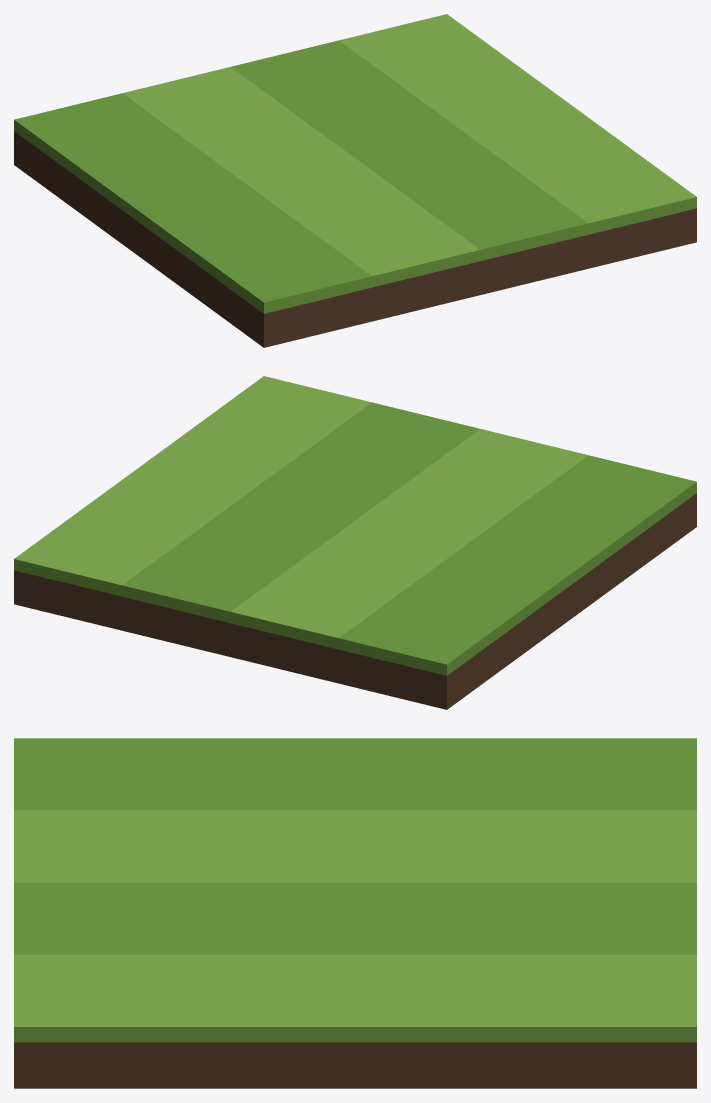
Rendered from piso_grama.glb.
3 renders of one model, top to bottom at view 1: azimuth 30°, elevation 25°; view 2: azimuth 150°, elevation 25°; view 3: azimuth 270°, elevation 25°, orthographic. The views are drawn at different scales.
Parts seen in each view (by area): view 1: piso_grama; view 2: piso_grama; view 3: piso_grama.
Boxes of the visible parts, left/top/right/bottom form: piso_grama: left=14, top=14, right=696, bottom=347; piso_grama: left=14, top=376, right=696, bottom=709; piso_grama: left=14, top=738, right=696, bottom=1088.
Bounding box in the file's own units: 1 × 0.1 × 1.
